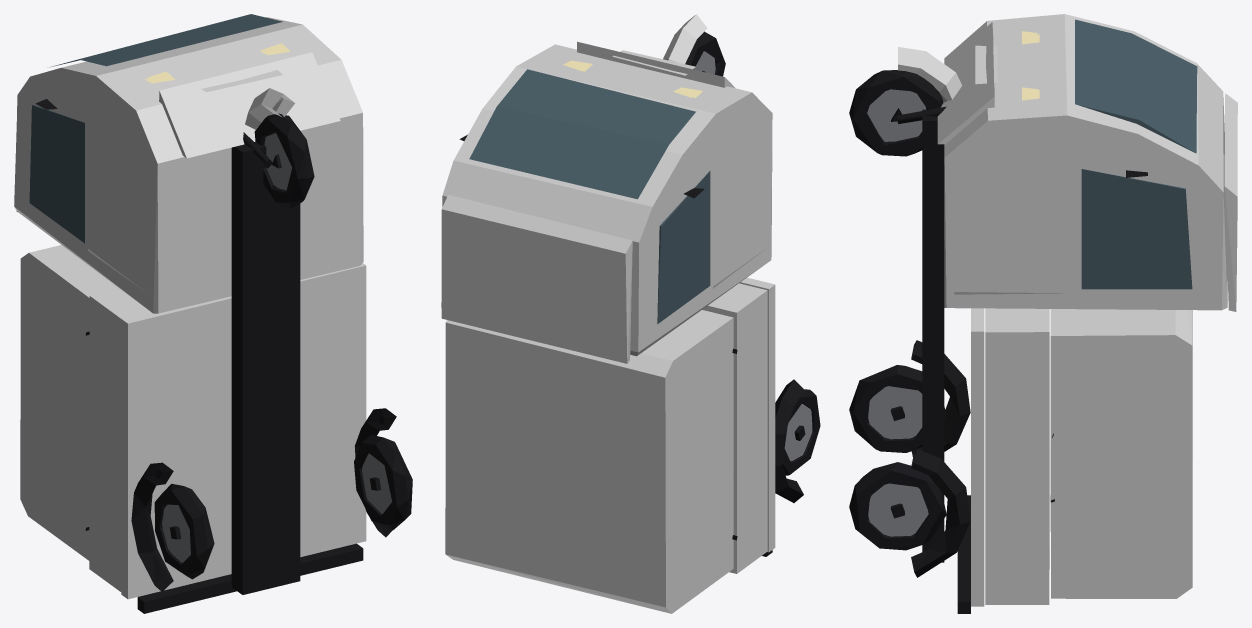
File: SolarpunkElectricTrike01_LOD1.fbx
3 views of the same model, side by side, from view 1: azimuth 30°, elevation 25°; view 2: azimuth 150°, elevation 25°; view 3: azimuth 270°, elevation 25° (orthographic). The views are drawn at different scales.
Visible parts, largest first — view 1: SolarpunkElectricTrike01_LOD1; view 2: SolarpunkElectricTrike01_LOD1; view 3: SolarpunkElectricTrike01_LOD1.
Part boxes in pixels (<box>): SolarpunkElectricTrike01_LOD1: <box>14,14,412,613</box>; SolarpunkElectricTrike01_LOD1: <box>441,14,820,613</box>; SolarpunkElectricTrike01_LOD1: <box>849,14,1237,613</box>.
Bounding box in the file's own units: 128 × 256 × 176.
Materials: 1 (1 with a texture image).
